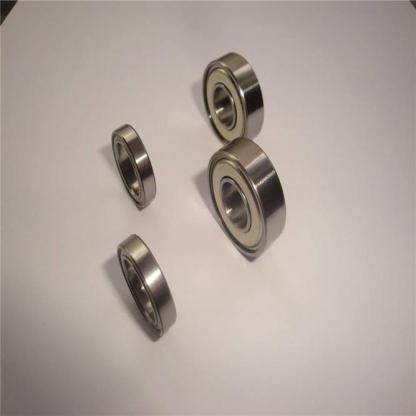FOD: (206, 133, 289, 263), (115, 232, 180, 336), (200, 49, 268, 147), (106, 121, 158, 212)
